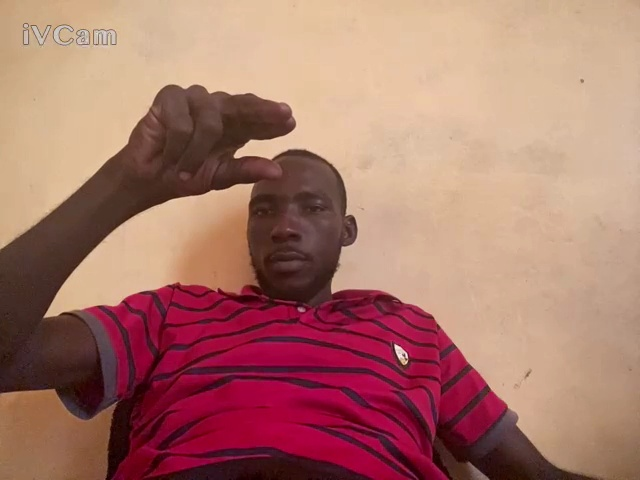Non: (122, 78, 304, 215)
